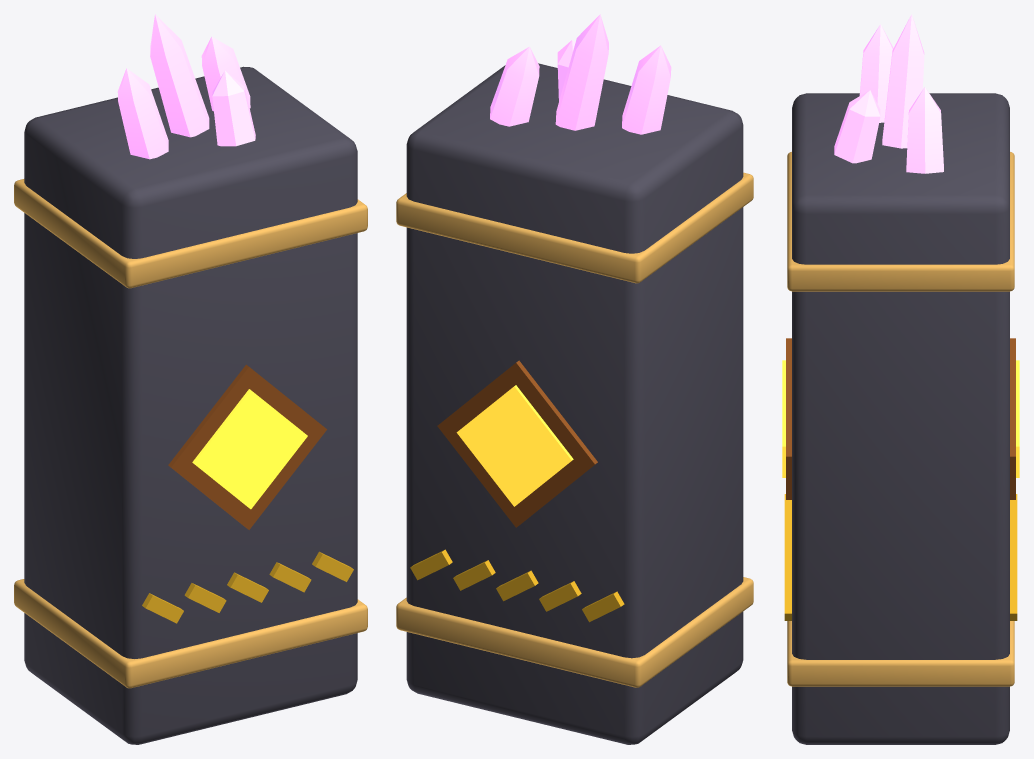
The model's file is barrier.glb.
3 renders of one model, left to right at view 1: azimuth 30°, elevation 25°; view 2: azimuth 150°, elevation 25°; view 3: azimuth 270°, elevation 25°, orthographic. The views are drawn at different scales.
Parts seen in each view (by area): view 1: Barrier; view 2: Barrier; view 3: Barrier.
Part boxes in pixels (x1,y1,x2,y2): Barrier: (14, 14, 367, 744); Barrier: (396, 14, 753, 744); Barrier: (782, 14, 1019, 744).
Bounding box in the file's own units: 1.14 × 3.03 × 0.98.
